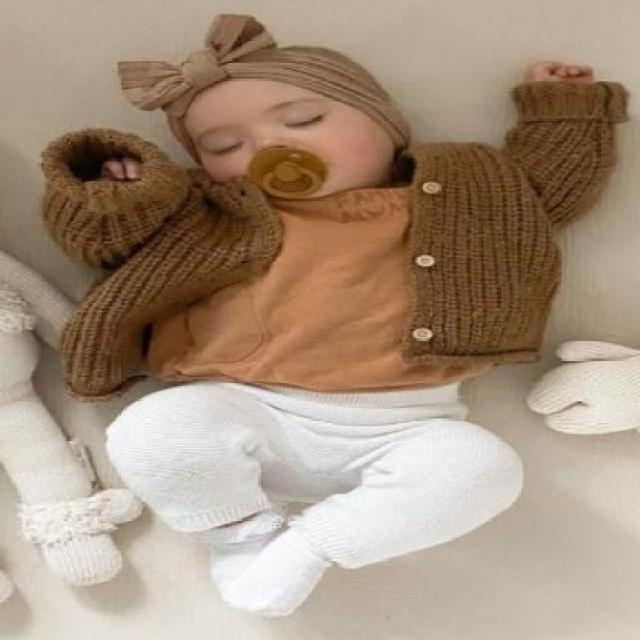baby: (39, 12, 624, 618)
